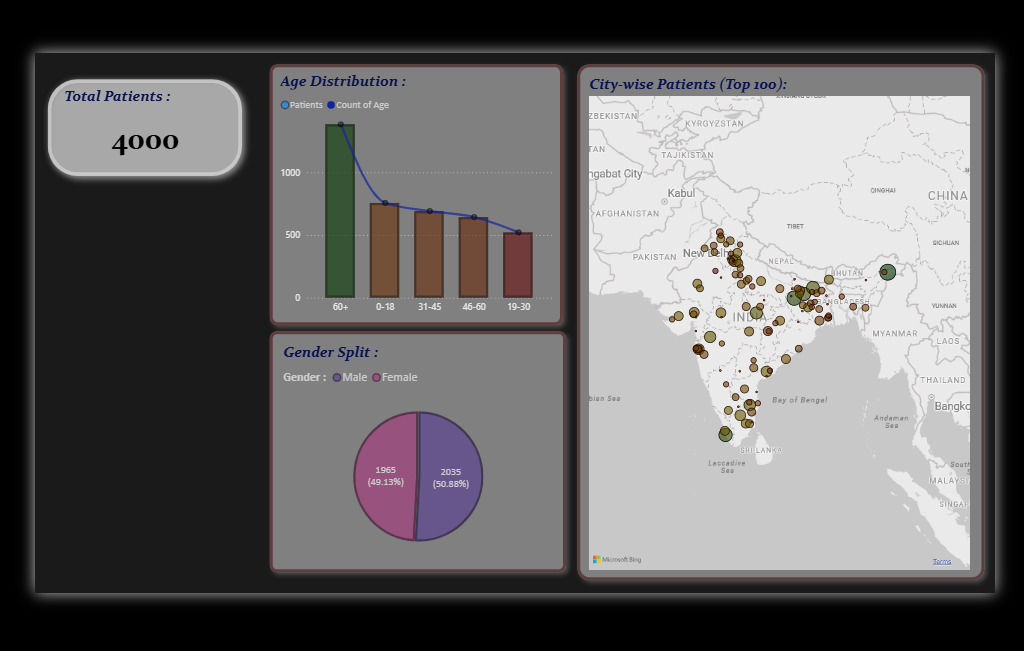

Layout of this report page (visuals, bound fields, positions):
{"tool":"powerbi","page":{"name":"Patient Demographics & Analysis :- ","canvas":[1280,720],"ordinal":3},"visuals":[{"type":"shape","box":[302,4,413,370],"z":0,"group":"g2"},{"type":"shape","box":[712.3,4,565,710],"z":0,"group":"g3"},{"type":"shape","box":[11,120.7,285,155],"z":0,"group":"g4"},{"type":"actionButton","title":"Home Button ","box":[25,142.5,95,100],"z":0,"group":"g6"},{"type":"group","id":"g1","title":"Visual - Gender Split","box":[302,360,416,344],"z":0},{"type":"shape","box":[302,360,417.1,343.3],"z":0,"group":"g1"},{"type":"actionButton","title":"Next Button ","box":[170,600,95,100],"z":0,"group":"g5"},{"type":"group","id":"g2","title":"Visual - Age Distribution ","box":[302,4,413,370],"z":1000},{"type":"actionButton","title":"Filter Button ","box":[25,20,95,100],"z":1000,"group":"g6"},{"type":"lineClusteredColumnComboChart","title":"Age Distribution :","fields":{"Category":["Patients.Age_Group"],"Y":["MyMeasures.Patients"],"Y2":["CountNonNull(Patients.Age)"]},"box":[322,24,372,332],"z":1000,"group":"g2"},{"type":"map","title":"City-wise Patients (Top 100):","fields":{"Category":["Patients.City Corrected"],"Size":["MyMeasures.Patients"]},"box":[734.2,27.1,517.8,666.9],"z":1000,"group":"g3"},{"type":"card","title":"Total Patients :","fields":{"Values":["MyMeasures.new"]},"box":[40.5,143.2,226,110],"z":1000,"group":"g4"},{"type":"pieChart","title":"Gender Split :","fields":{"Category":["Patients.Gender"],"Y":["MyMeasures.Patients"]},"box":[326.6,385,369.5,300],"z":1000,"group":"g1"},{"type":"actionButton","title":"Previous Button ","box":[25,600,95,100],"z":1000,"group":"g5"},{"type":"group","id":"g3","title":"Visual - City-wise Patients","box":[712.3,4,565,710],"z":2000},{"type":"group","id":"g4","title":"KPI - Patients ","box":[11,120.7,285,155],"z":3000},{"type":"group","id":"g5","title":"Navigation ","box":[25,600,240,100],"z":4000},{"type":"shape","title":"Title","box":[7,11,270,85],"z":4500},{"type":"group","id":"g6","title":"Home + Filter ","box":[25,20,95,222.5],"z":5000}]}

Visuals, with their boxes on the page's 1280x720 design canvas (x1, y1, x2, y2). These are canvas units, not pixel positions in the 1024x651 screenshot, which may show the page scaled, cropped or inside an application window:
shape: 302 4 715 374
shape: 712 4 1277 714
shape: 11 121 296 276
"Home Button " actionButton: 25 142 120 242
"Visual - Gender Split" group: 302 360 718 704
shape: 302 360 719 703
"Next Button " actionButton: 170 600 265 700
"Visual - Age Distribution " group: 302 4 715 374
"Filter Button " actionButton: 25 20 120 120
"Age Distribution :" lineClusteredColumnComboChart: 322 24 694 356
"City-wise Patients (Top 100):" map: 734 27 1252 694
"Total Patients :" card: 40 143 266 253
"Gender Split :" pieChart: 327 385 696 685
"Previous Button " actionButton: 25 600 120 700
"Visual - City-wise Patients" group: 712 4 1277 714
"KPI - Patients " group: 11 121 296 276
"Navigation " group: 25 600 265 700
"Title" shape: 7 11 277 96
"Home + Filter " group: 25 20 120 242
